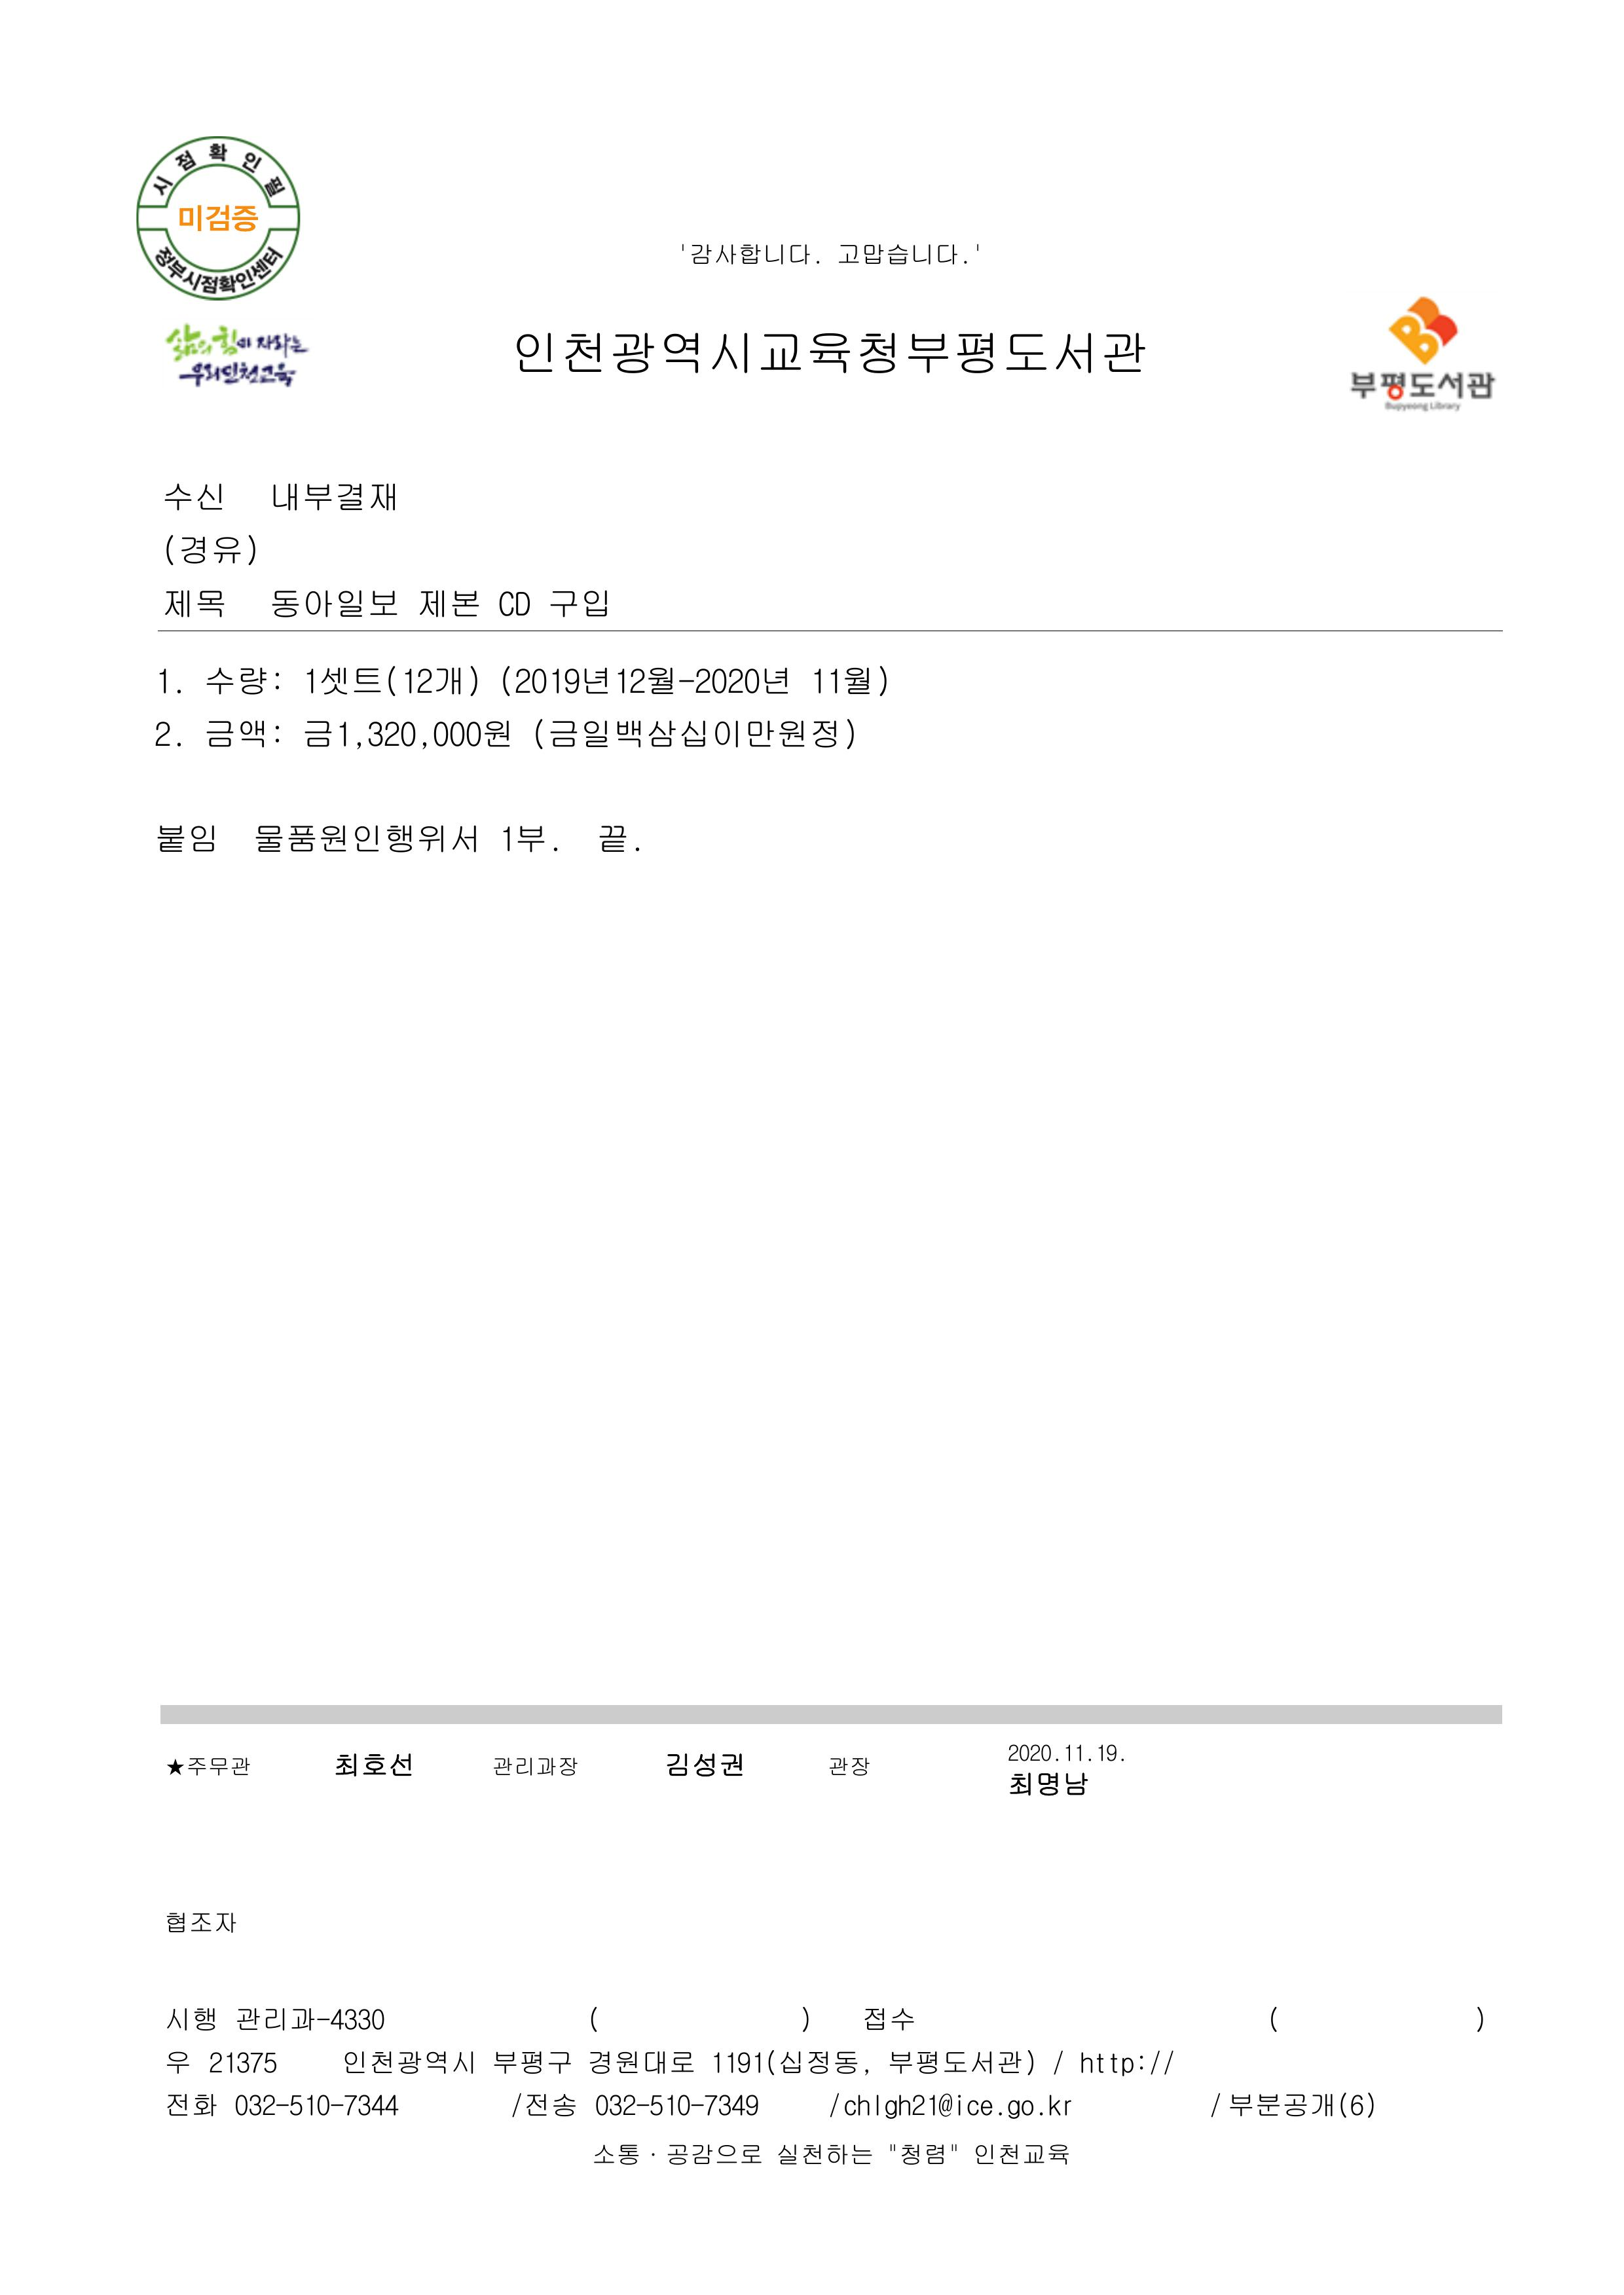t: (513, 326, 1147, 380), (530, 713, 857, 753), (251, 821, 480, 856), (301, 663, 480, 699), (610, 663, 788, 699), (706, 2044, 864, 2080), (885, 2046, 1039, 2082), (1226, 2087, 1377, 2123), (301, 713, 434, 753), (164, 322, 308, 358), (268, 477, 397, 516), (268, 584, 397, 623), (1344, 369, 1495, 401), (341, 2047, 477, 2080), (498, 663, 613, 699), (870, 2094, 996, 2125), (688, 240, 824, 268), (175, 358, 297, 390), (161, 530, 258, 570), (584, 2047, 695, 2080), (771, 2137, 875, 2169), (839, 244, 972, 268), (200, 713, 283, 753), (663, 2137, 764, 2169), (972, 2137, 1069, 2169), (175, 200, 258, 236), (430, 713, 513, 749), (661, 1750, 745, 1785), (807, 663, 889, 699), (1004, 1767, 1090, 1800), (204, 663, 283, 699), (329, 1746, 416, 1778), (290, 2008, 387, 2033), (161, 584, 226, 620), (545, 584, 610, 620), (416, 584, 480, 620), (1075, 2047, 1147, 2080), (157, 821, 219, 856), (164, 1907, 240, 1936), (204, 2047, 280, 2076), (506, 2090, 577, 2119), (164, 480, 226, 513), (498, 821, 552, 856), (168, 1757, 251, 1778), (699, 2090, 760, 2119), (341, 2090, 401, 2119), (491, 2047, 545, 2080), (896, 2137, 946, 2169), (164, 2004, 219, 2033), (645, 2090, 699, 2119), (229, 2090, 280, 2119), (591, 2090, 642, 2119), (591, 2140, 642, 2169), (164, 2094, 222, 2119), (287, 2094, 344, 2119), (236, 2008, 290, 2033), (864, 2008, 914, 2033), (494, 588, 534, 620), (595, 821, 631, 856), (1004, 2097, 1047, 2123), (1007, 1742, 1058, 1764), (534, 1757, 581, 1778), (828, 1757, 871, 1778), (1144, 2047, 1176, 2076), (494, 1757, 534, 1778), (842, 2094, 875, 2119), (157, 670, 186, 695), (1094, 1742, 1122, 1764), (1047, 2097, 1075, 2119), (1061, 1746, 1090, 1767), (168, 2051, 190, 2076), (157, 720, 175, 749)
